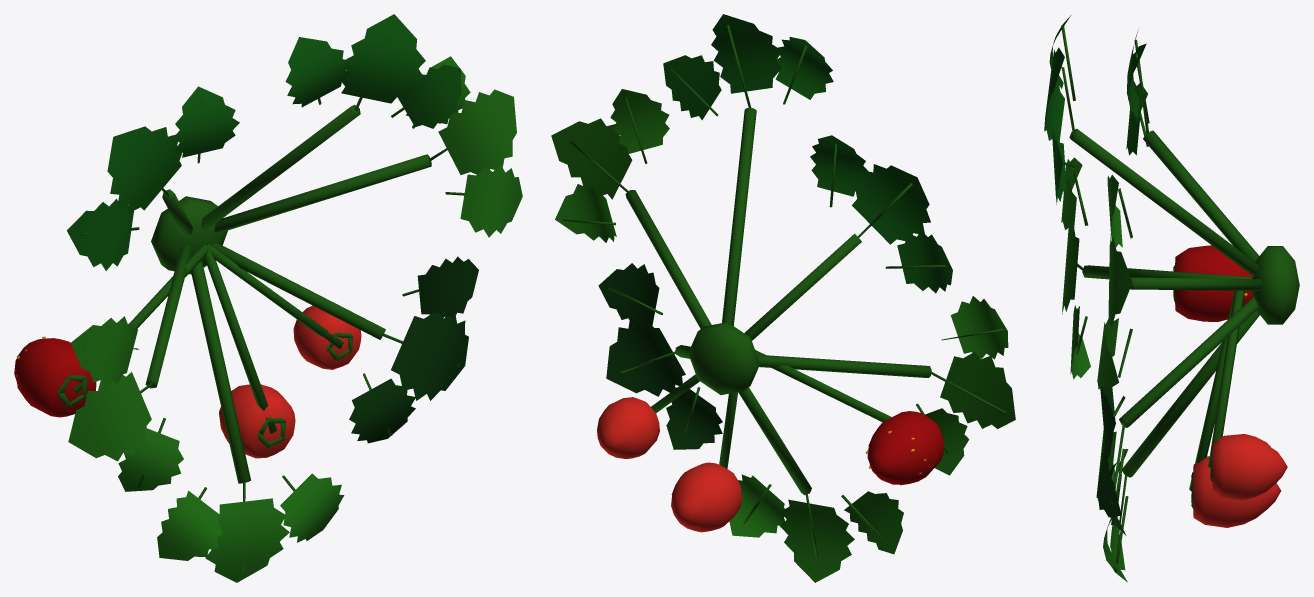
Rendered from plant_variant_06.obj.
3 views of the same model, side by side, from view 1: azimuth 30°, elevation 25°; view 2: azimuth 150°, elevation 25°; view 3: azimuth 270°, elevation 25° (orthographic). The views are drawn at different scales.
Parts seen in each view (by area): view 1: field_export_plant_variant_06; view 2: field_export_plant_variant_06; view 3: field_export_plant_variant_06.
Boxes of the visible parts, x1,y1,x2,y2 form: field_export_plant_variant_06: (14,14,522,582); field_export_plant_variant_06: (551,14,1015,582); field_export_plant_variant_06: (1044,15,1299,582).
Bounding box in the file's own units: 0.5799 × 0.6522 × 0.2615.
